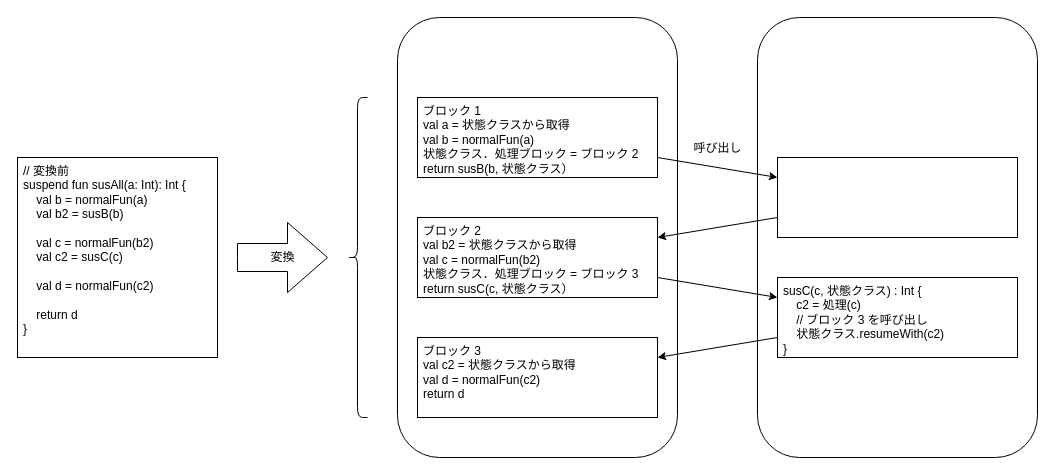
This 1055x475 diagram has some shape labels left out. The shapes that lost their labels are listed below. From the top down, each one's box as (x1, y1, x2, y2) in pixels, then its label:
(776, 156, 1018, 238): susB(b, 状態クラス) : Int { b2 = 処理(x) // ブロック 2 を呼び出し 状態クラス.resumeWith(b2) }
(396, 16, 678, 458): 変換後 susAll 関数
(756, 16, 1038, 458): その他の Suspend 関数
